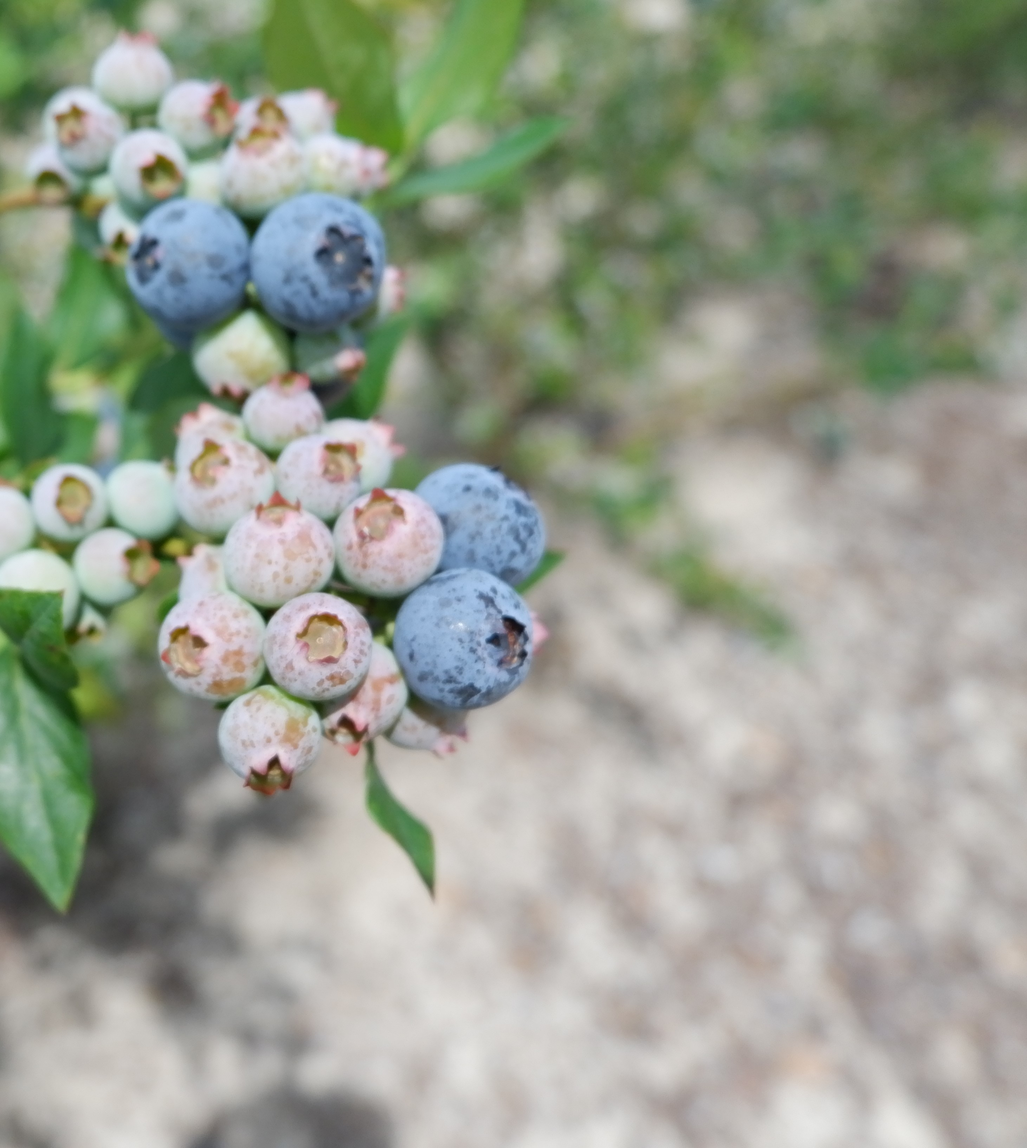Immature: (224, 501, 331, 606), (335, 489, 440, 594), (265, 595, 369, 700), (160, 593, 263, 698), (219, 687, 320, 789), (174, 439, 271, 535), (318, 644, 402, 751), (193, 305, 288, 399), (220, 126, 305, 216), (274, 435, 360, 520), (1, 548, 82, 633), (245, 371, 322, 452), (112, 130, 188, 209), (75, 530, 157, 603), (95, 34, 171, 107), (31, 466, 107, 539), (321, 419, 401, 487), (159, 81, 233, 154), (292, 326, 362, 398), (109, 463, 176, 537), (55, 101, 126, 167), (305, 136, 383, 196), (392, 693, 466, 753), (175, 402, 245, 464), (19, 143, 85, 204), (40, 85, 99, 152), (227, 95, 286, 145), (179, 547, 232, 599), (277, 90, 335, 137), (99, 202, 147, 252), (150, 317, 200, 353), (186, 160, 221, 205)
Mature: (395, 571, 532, 710), (250, 196, 382, 328), (127, 197, 248, 330), (414, 464, 542, 583)
